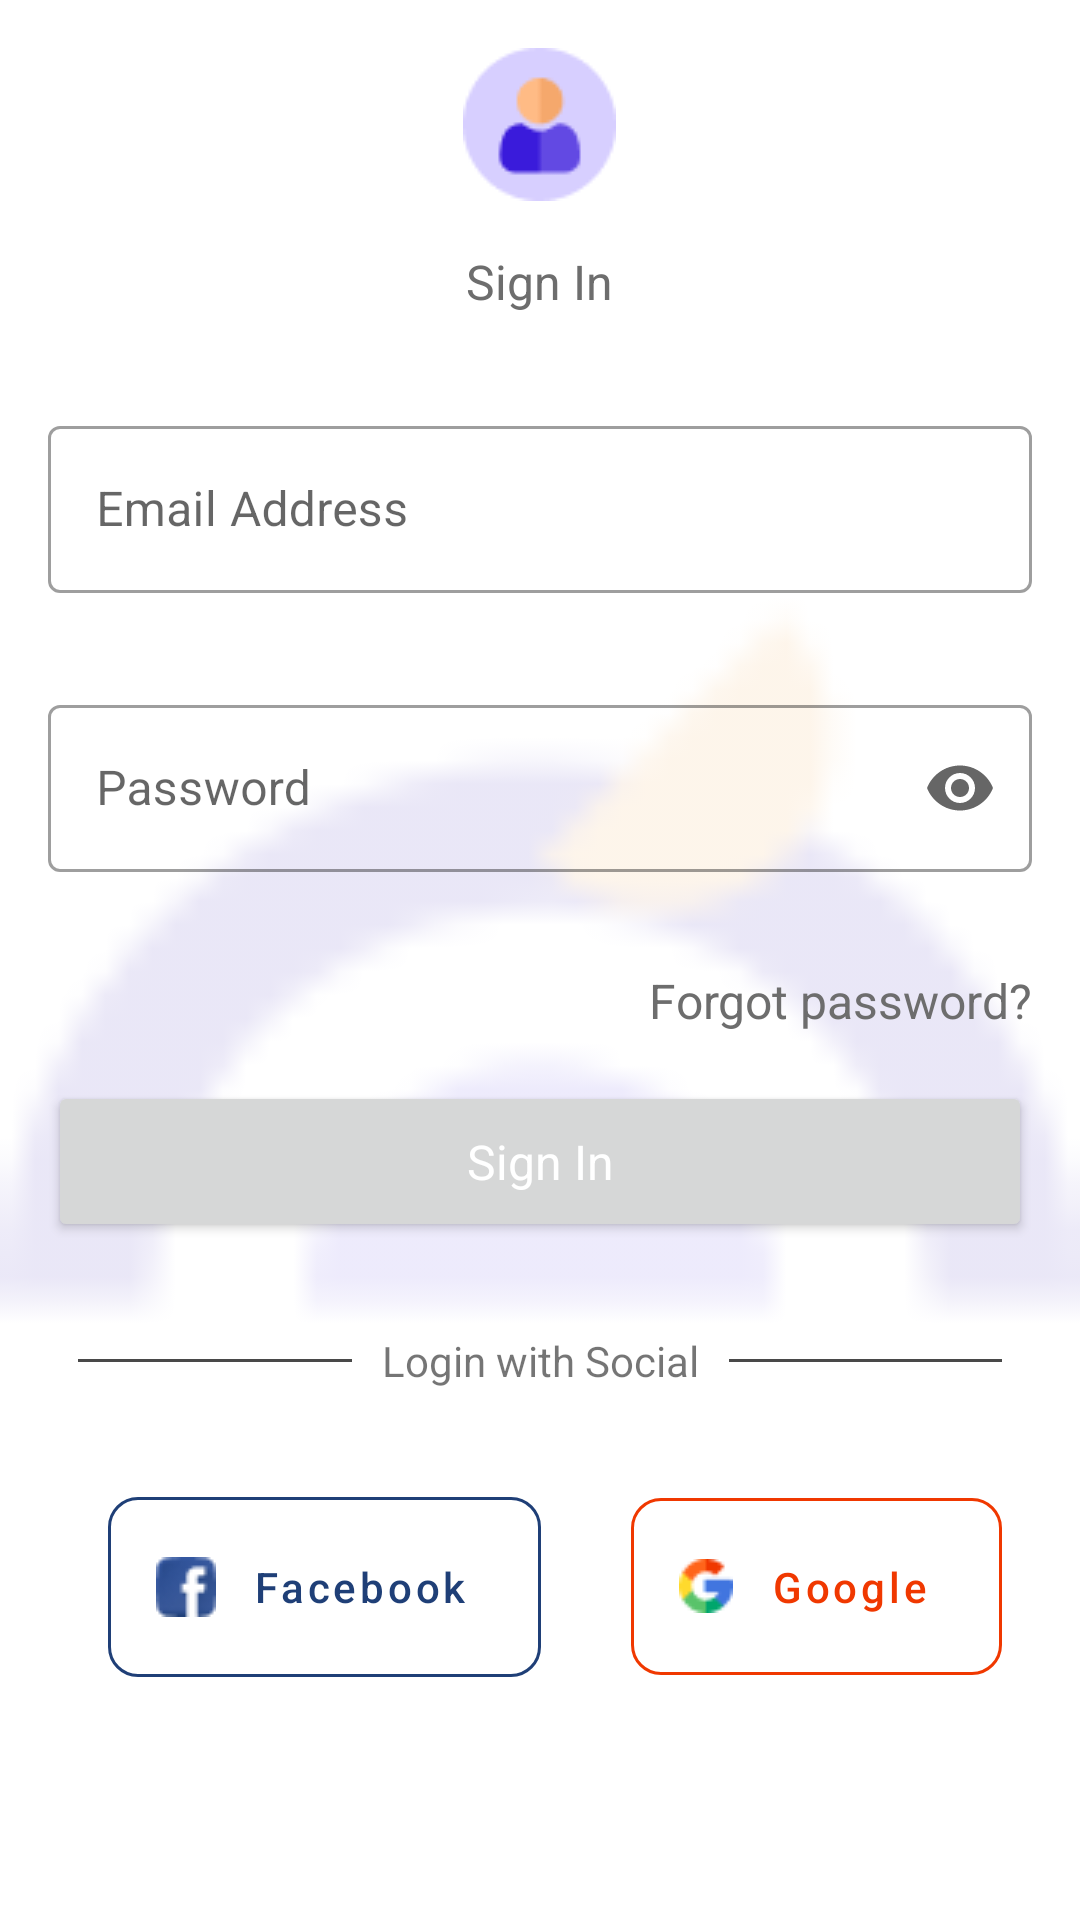

Named icons in this screenshot (1080x1920) and their bounding boxes, (left=x1, top=y1, right=x2, bottom=y2):
person: (left=463, top=48, right=616, bottom=201)
